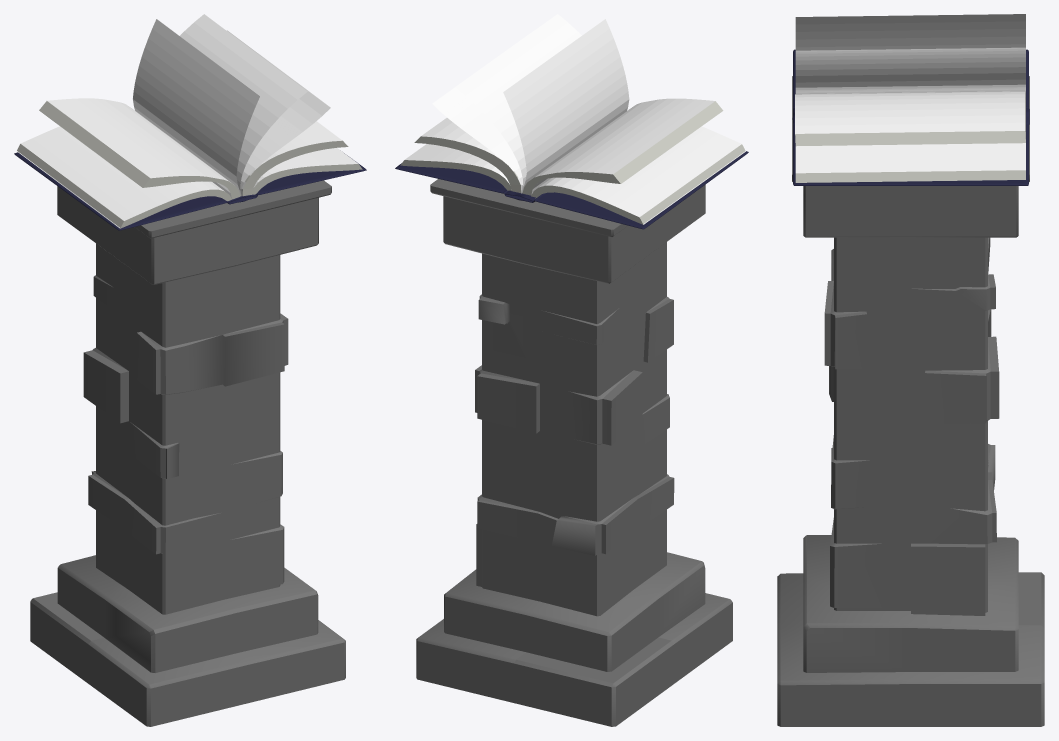
The model's file is book_pillar.glb.
3 views of the same model, side by side, from view 1: azimuth 30°, elevation 25°; view 2: azimuth 150°, elevation 25°; view 3: azimuth 270°, elevation 25° (orthographic). The views are drawn at different scales.
Visible parts, largest first — view 1: stone_pillar_01, BezierCurve_3, Cube_2; view 2: stone_pillar_01, BezierCurve_3, Cube_2; view 3: stone_pillar_01, BezierCurve_3, Cube_2.
Part boxes in pixels (bbox=[...]): stone_pillar_01: bbox=[30, 180, 345, 726]; BezierCurve_3: bbox=[16, 14, 362, 228]; Cube_2: bbox=[14, 152, 366, 230]; stone_pillar_01: bbox=[416, 179, 732, 726]; BezierCurve_3: bbox=[400, 14, 745, 224]; Cube_2: bbox=[395, 151, 748, 229]; stone_pillar_01: bbox=[777, 76, 1044, 726]; BezierCurve_3: bbox=[795, 14, 1025, 182]; Cube_2: bbox=[792, 49, 1029, 185].
Size of the model in its own units: 2.83 by 6.5 by 2.35.
